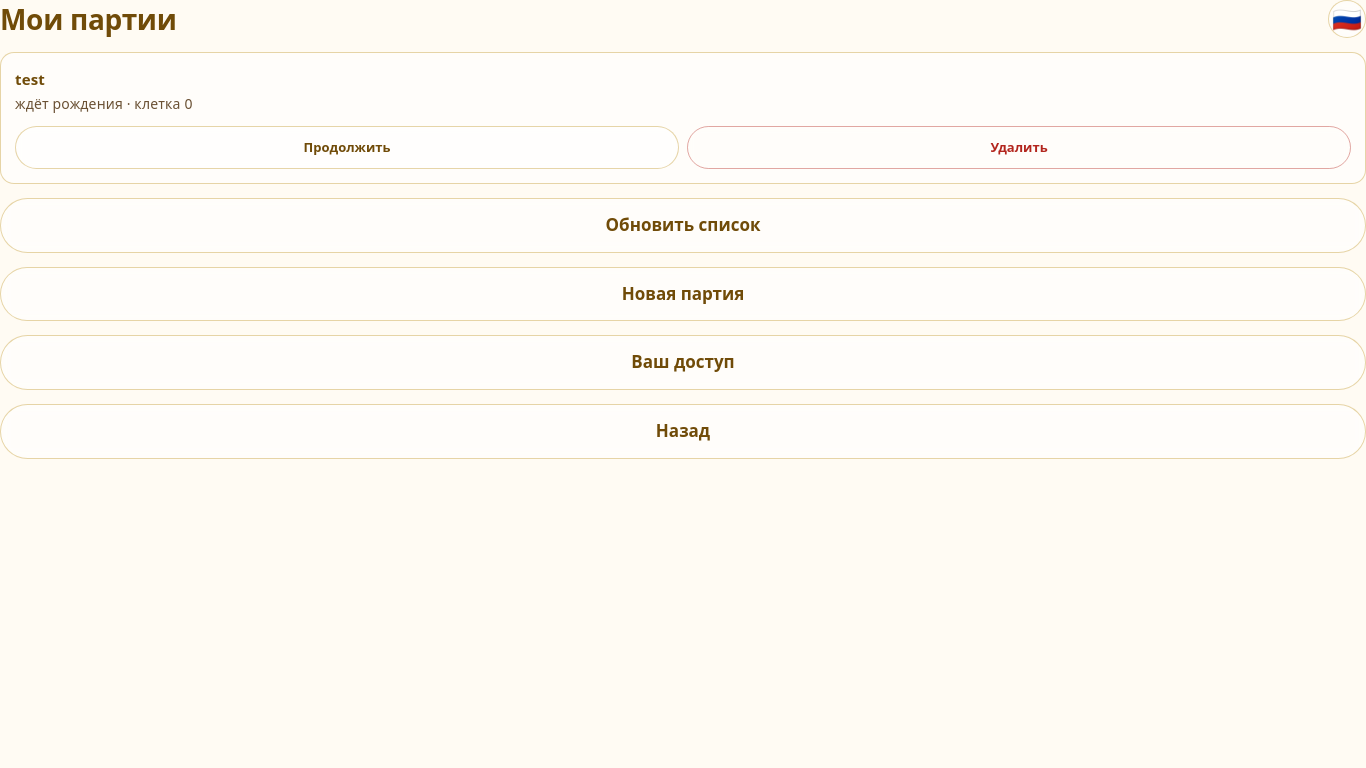
it: requires confirmation, preserves the row on failure and allows retry (ru)
Step 1. Click the button "Удалить" → coordinates (1019, 148), box x1=687 y1=126 x2=1351 y2=169
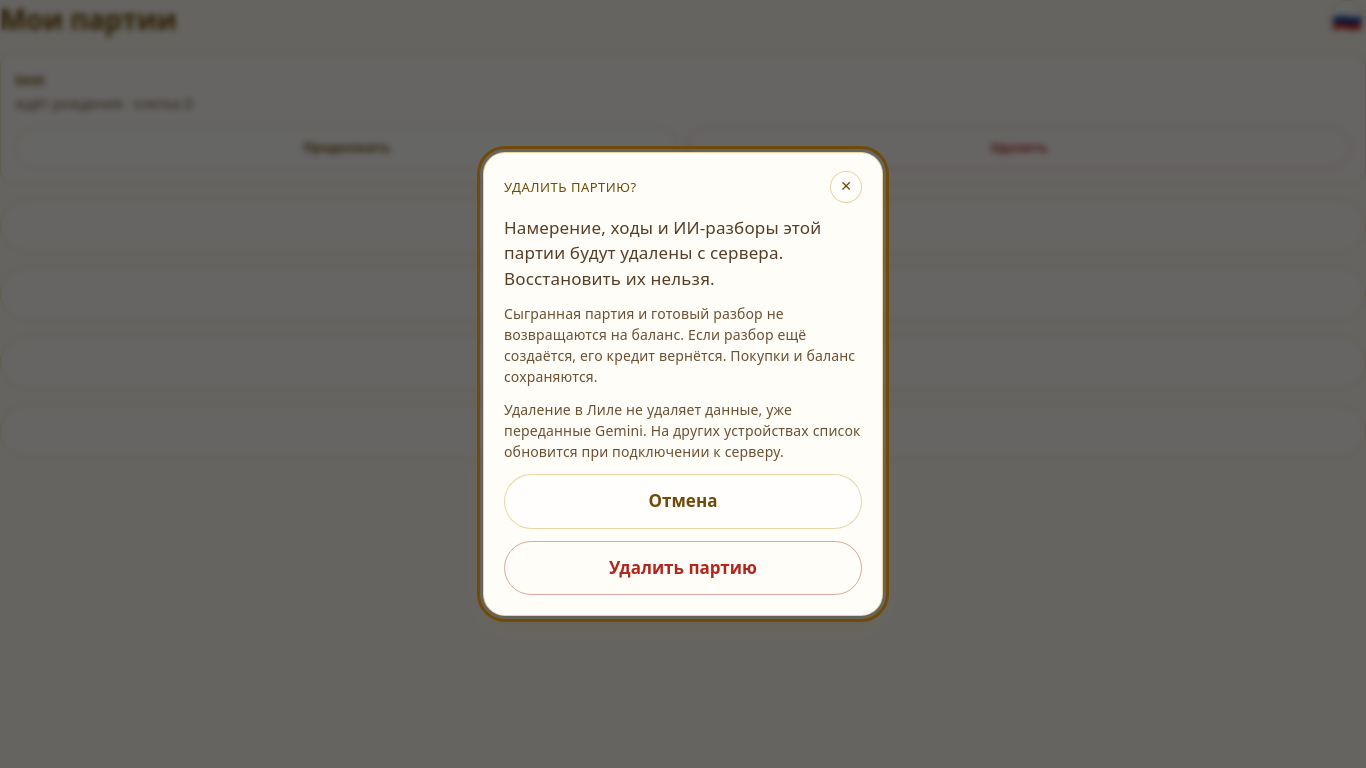
Result: the dialog shows "Восстановить их нельзя" at x1=504 y1=216 x2=821 y2=290
Step 2. Click the button "Удалить партию" → coordinates (683, 568), box x1=504 y1=541 x2=862 y2=596
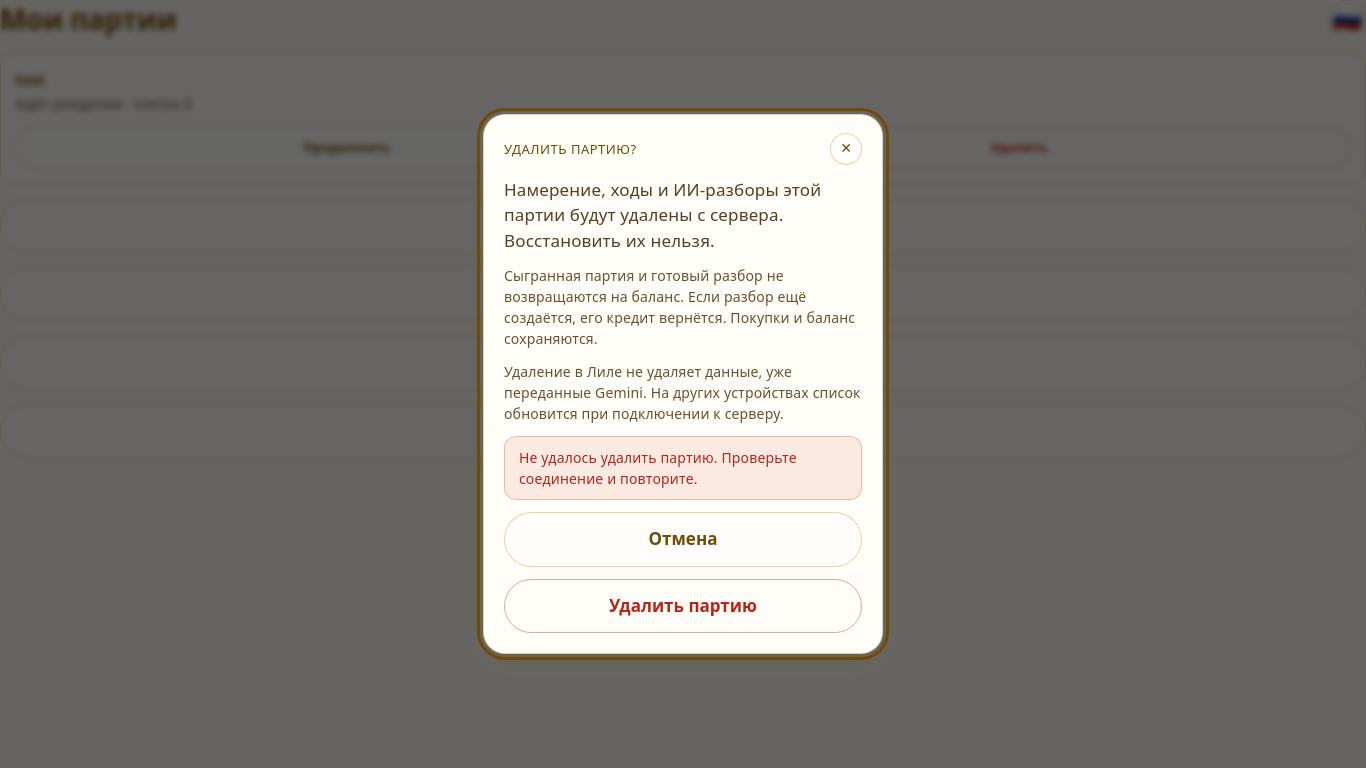
Expected: the list item with class "game-list-item" is shown, x1=0 y1=52 x2=1365 y2=184
Result: the message "Не удалось удалить партию. Проверьте соединение и повторите." is shown at x1=504 y1=436 x2=862 y2=500
Step 3. Click the button "Удалить партию" → coordinates (683, 606), box x1=504 y1=579 x2=862 y2=634
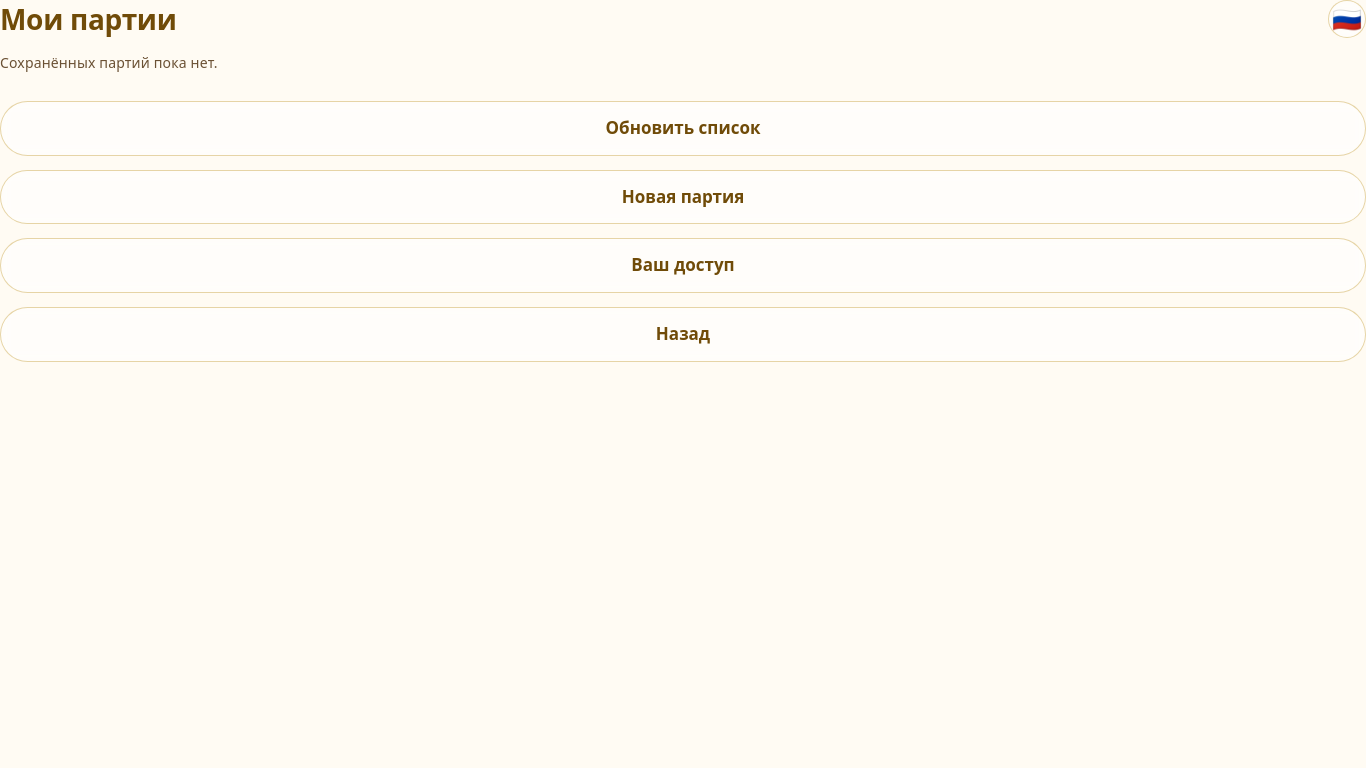
Result: the list item with class "game-list-item" is gone
Result: the dialog is gone
